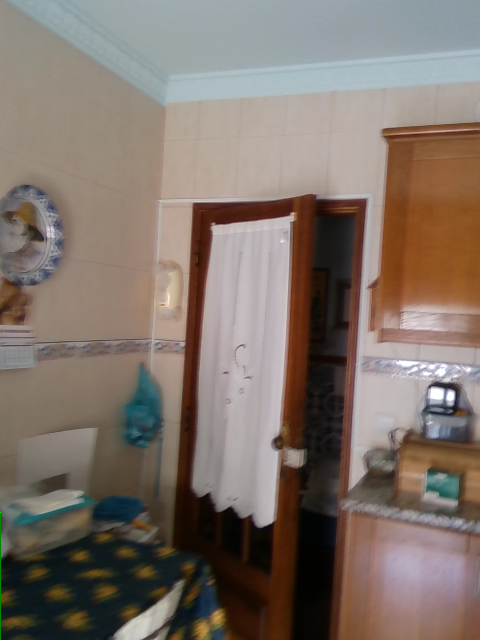semi: (172, 194, 367, 639)
